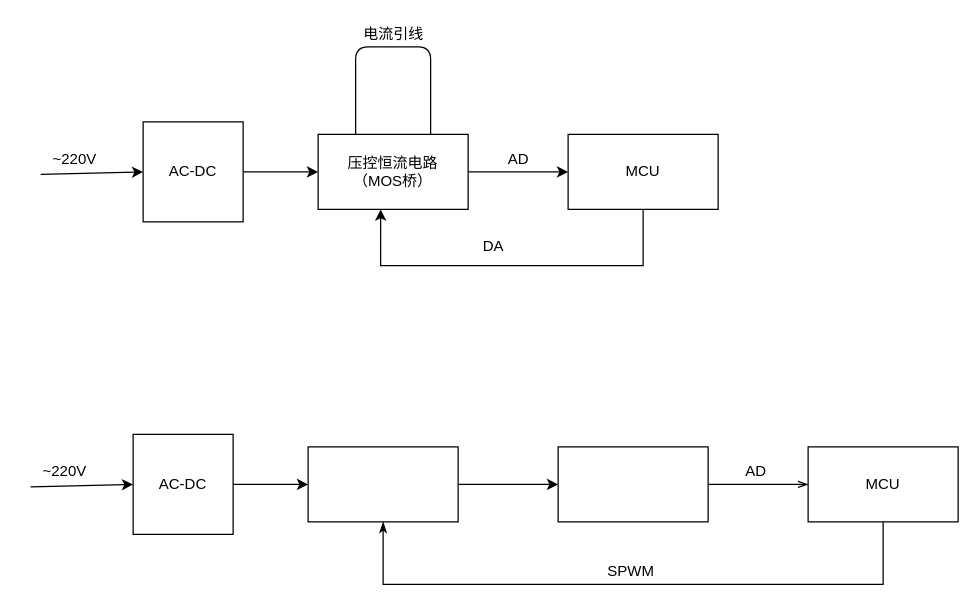
Some shapes in this 980 by 616 pixel diagram are drawn without their labels. Each missing label, with the centre of its shape:
"变压器" belongs at pixel 632 484.
"逆变电路" belongs at pixel 382 484.
